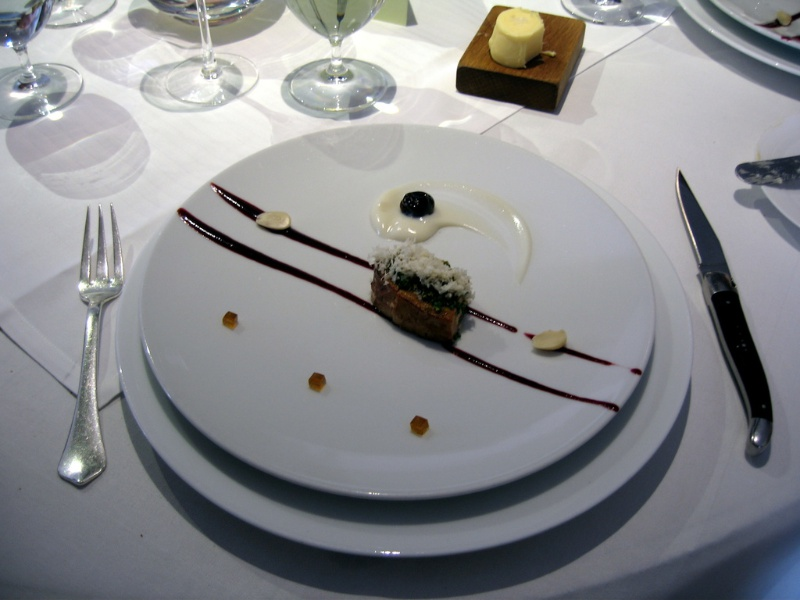knife: (669, 166, 776, 468)
